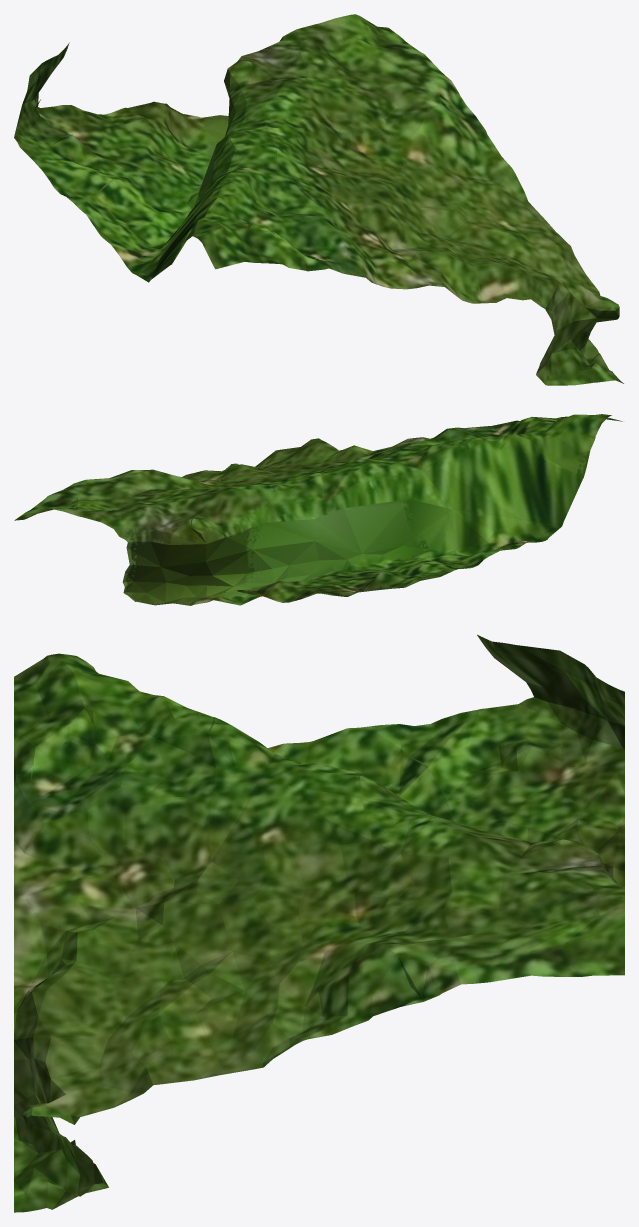
The picture shows the model from 3 angles, top to bottom: view 1: azimuth 30°, elevation 25°; view 2: azimuth 150°, elevation 25°; view 3: azimuth 270°, elevation 25°; orthographic projection. The views are drawn at different scales.
Size of the model in its own units: 1.67 by 0.9677 by 1.67.
Materials: 3 (3 with a texture image).
